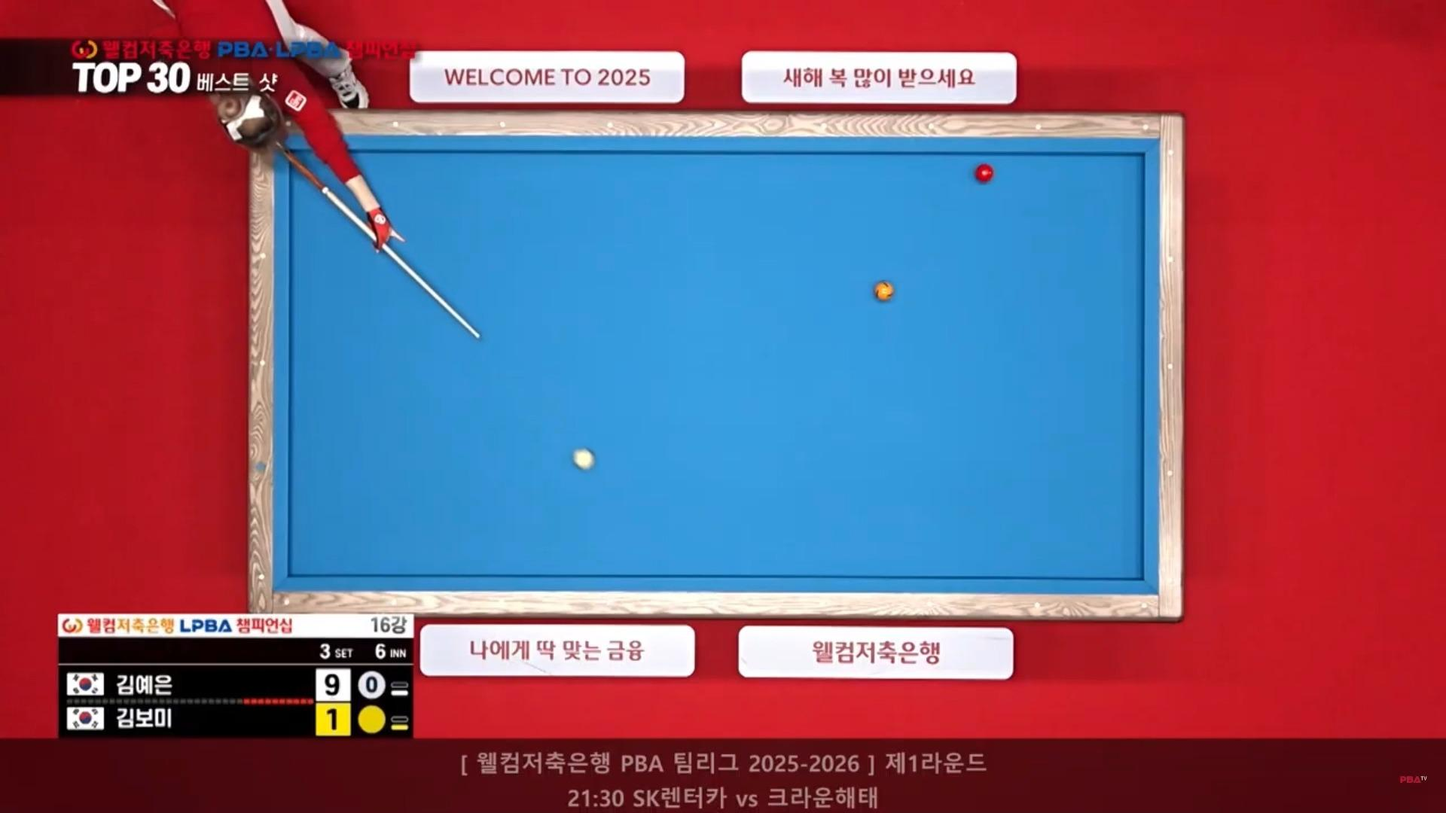Red: (971, 166, 994, 184)
White: (570, 448, 596, 470)
billiard-ball-Yellow: (874, 282, 893, 303)
